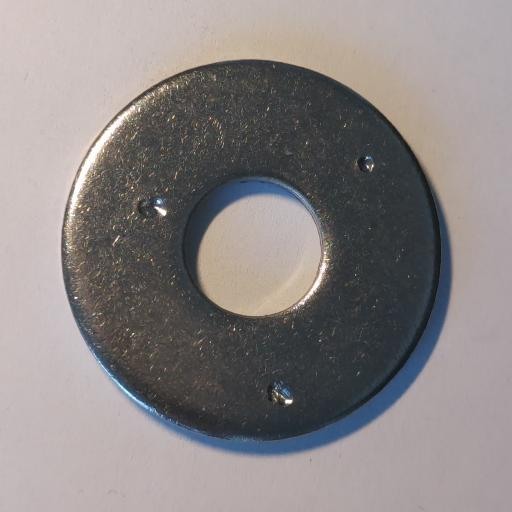circular_cavity: (266, 380, 296, 407), (136, 194, 166, 218), (356, 154, 376, 175)
